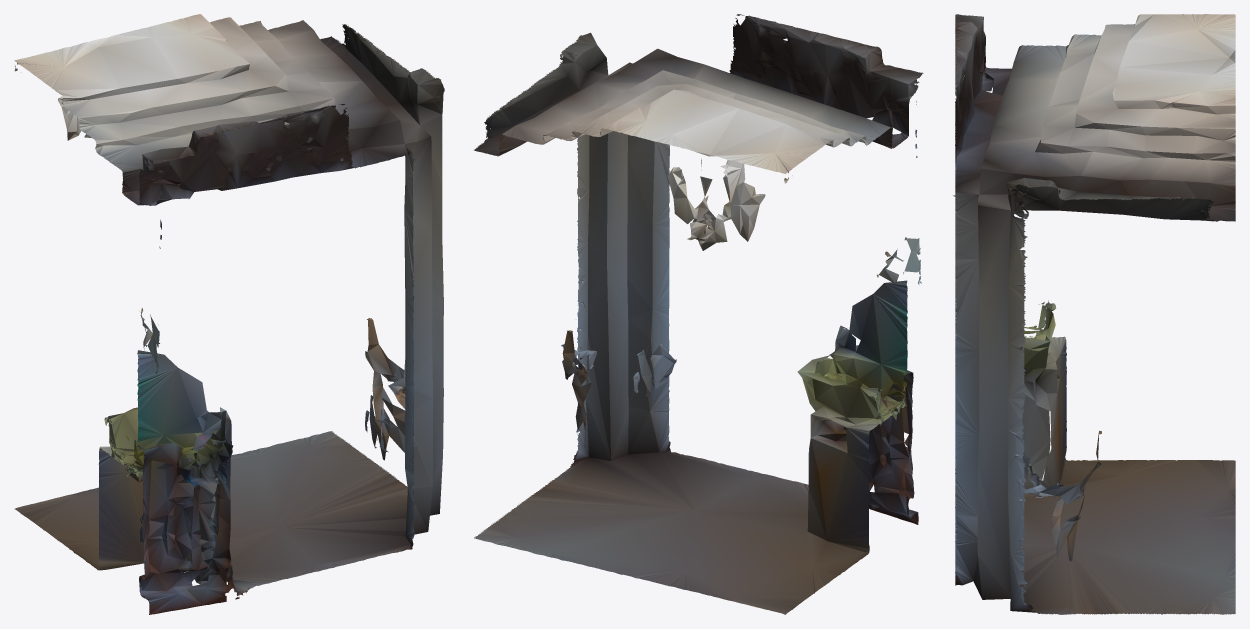
File: coarse.glb
3 views of the same model, side by side, from view 1: azimuth 30°, elevation 25°; view 2: azimuth 150°, elevation 25°; view 3: azimuth 270°, elevation 25° (orthographic).
Size of the model in its own units: 2.16 by 3.07 by 1.68.
